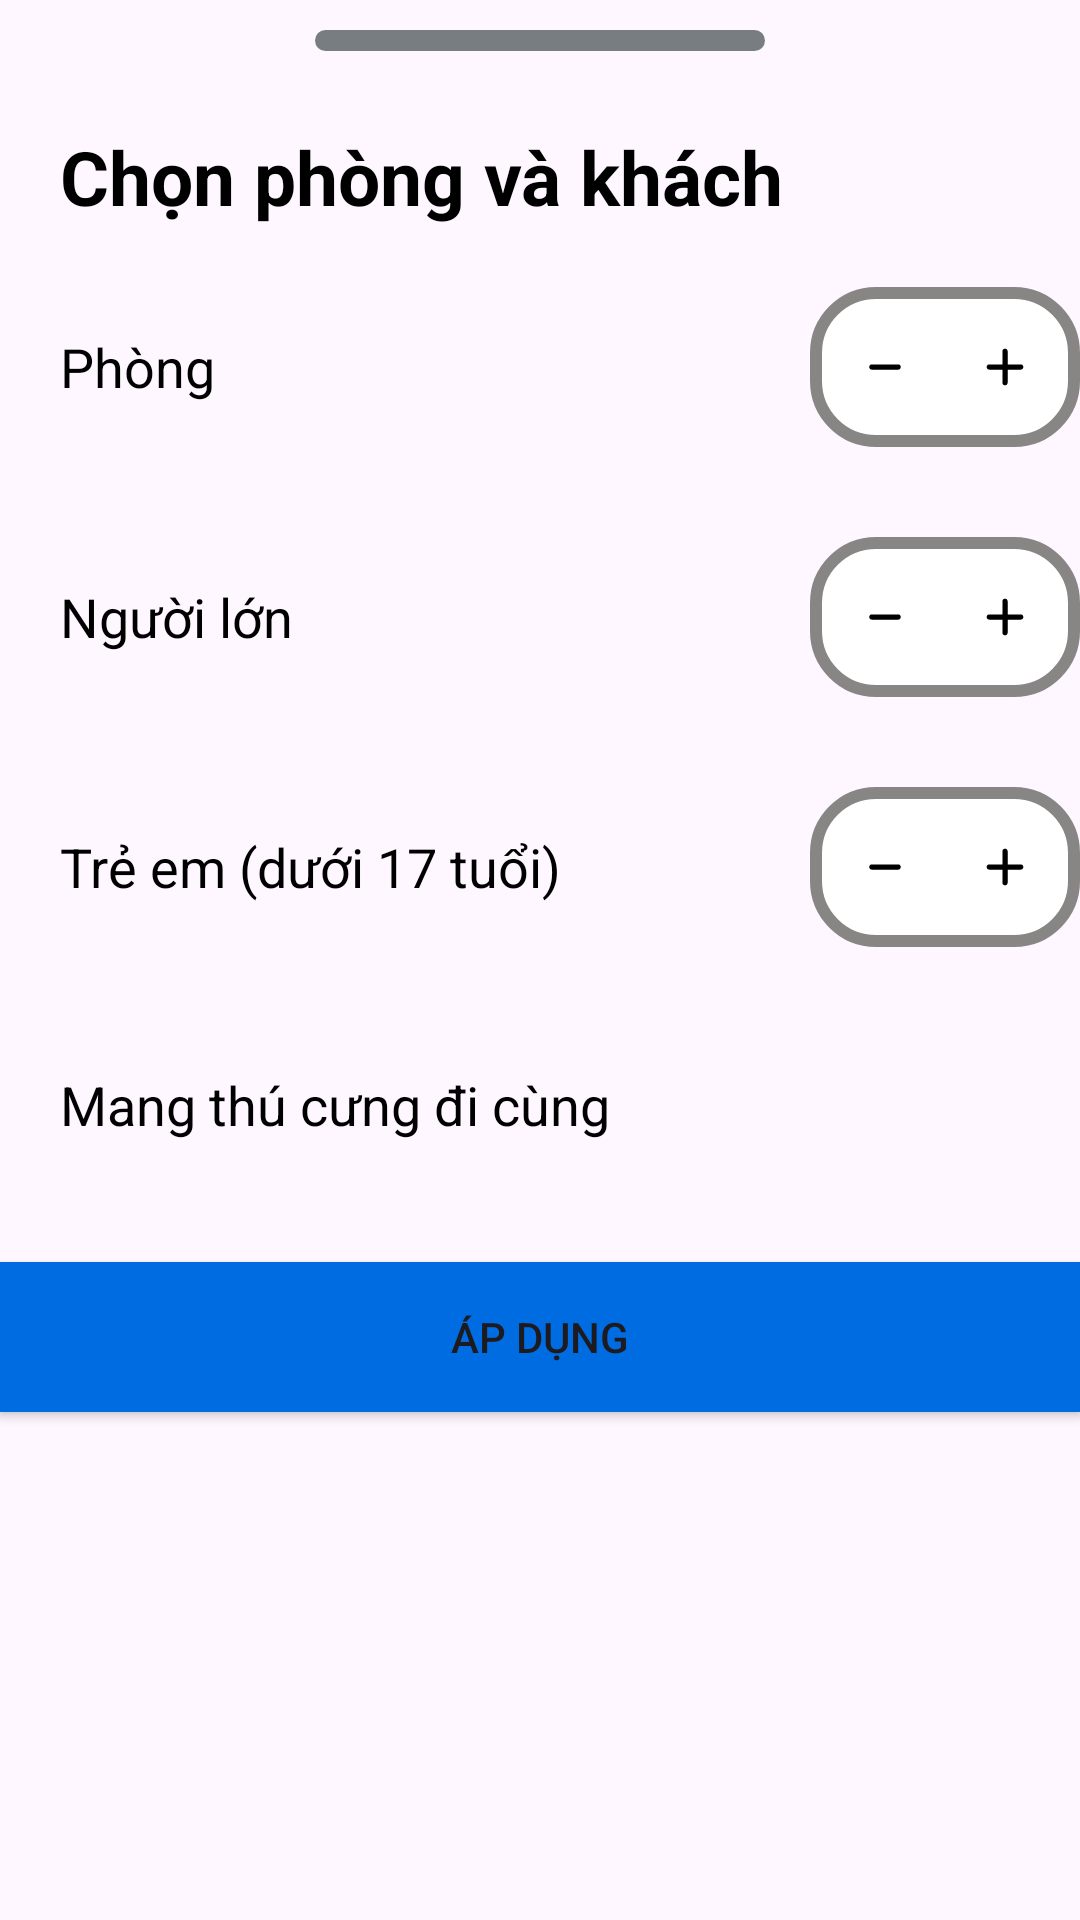

Icon click points for this 1080 × 1920 phone screenshot, format (x=x, y=y):
minus: (x=885, y=367), (x=885, y=617), (x=885, y=867)
plus: (x=1005, y=367), (x=1005, y=617), (x=1005, y=867)
